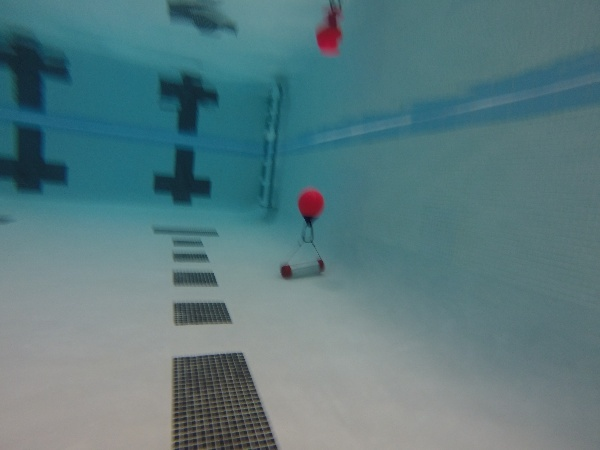buoy_red: (297, 187, 323, 226)
